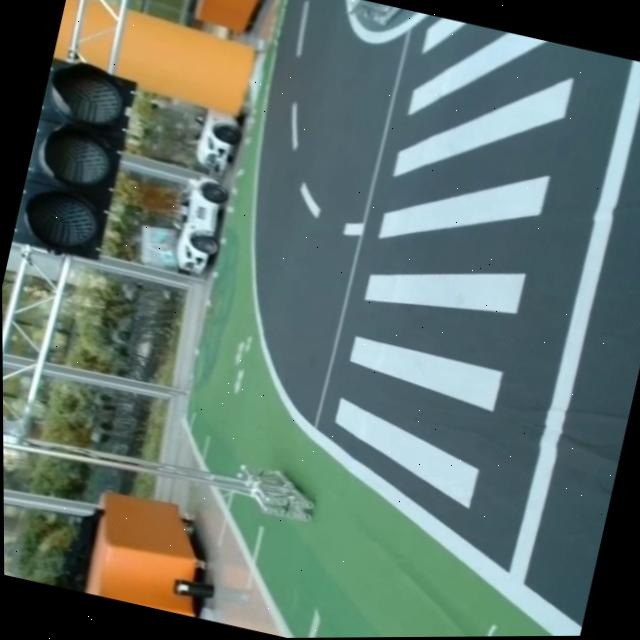traffic-light: (9, 54, 143, 268)
